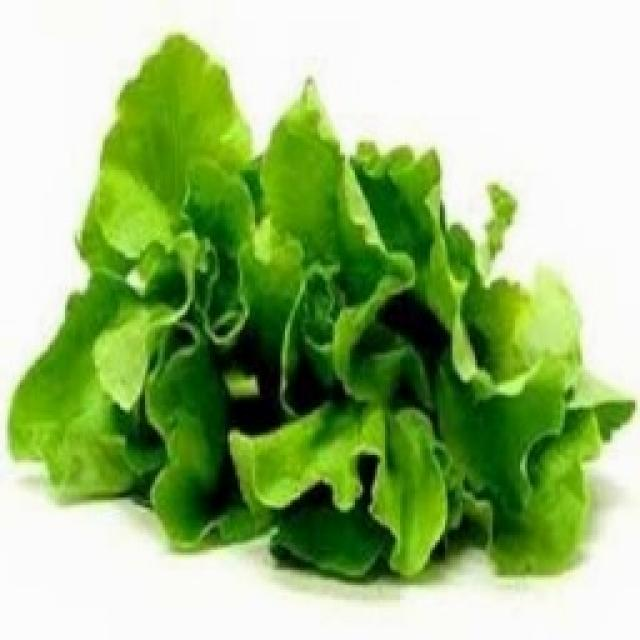Lettuce-Ready-to-Harvest: (9, 36, 634, 578)
